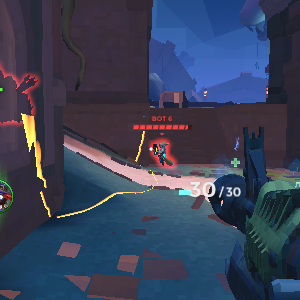model: (149, 135, 176, 171)
